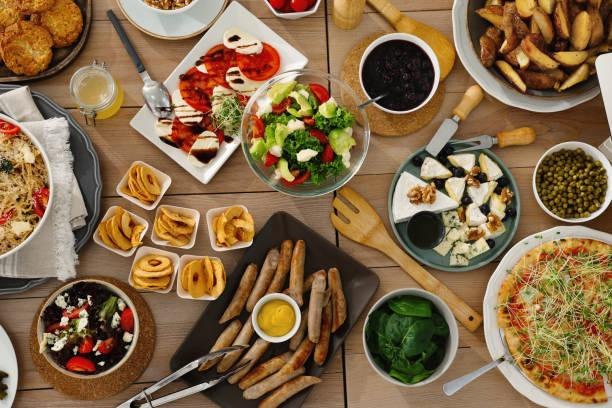Braised Crucian Carp: (169, 209, 377, 405), (130, 2, 308, 185), (482, 228, 609, 406), (1, 85, 102, 296), (463, 0, 612, 112), (388, 143, 517, 270), (27, 276, 142, 377)
